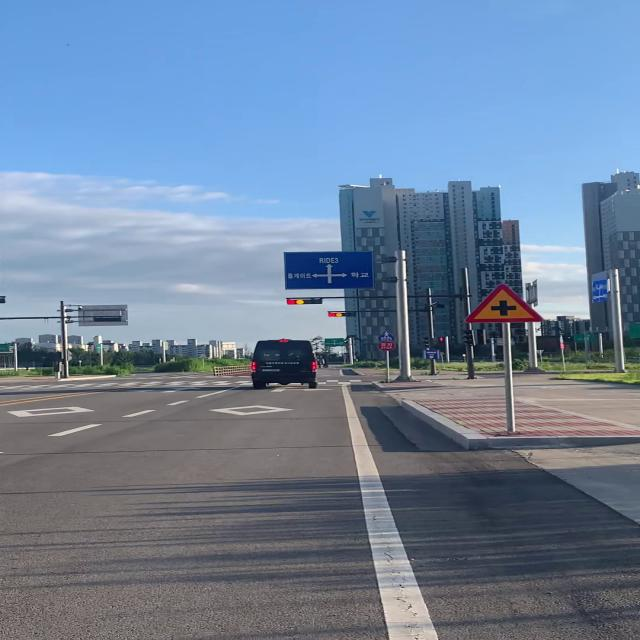yellow_light: (286, 299, 323, 304), (328, 312, 357, 317)
